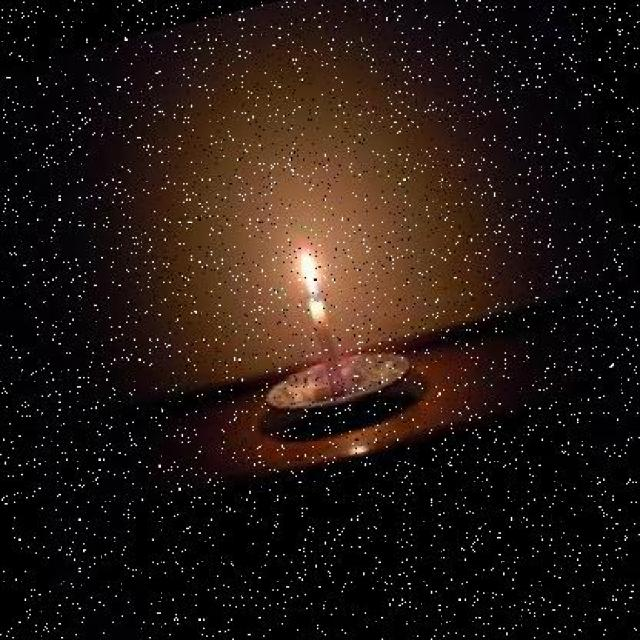fire: (285, 232, 340, 312)
